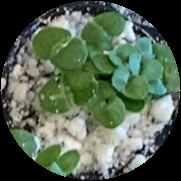Basil: (35, 29, 86, 72), (40, 72, 95, 111), (84, 80, 123, 129), (81, 10, 129, 44), (107, 62, 143, 103), (32, 150, 84, 175), (126, 55, 165, 85), (91, 43, 135, 65)
